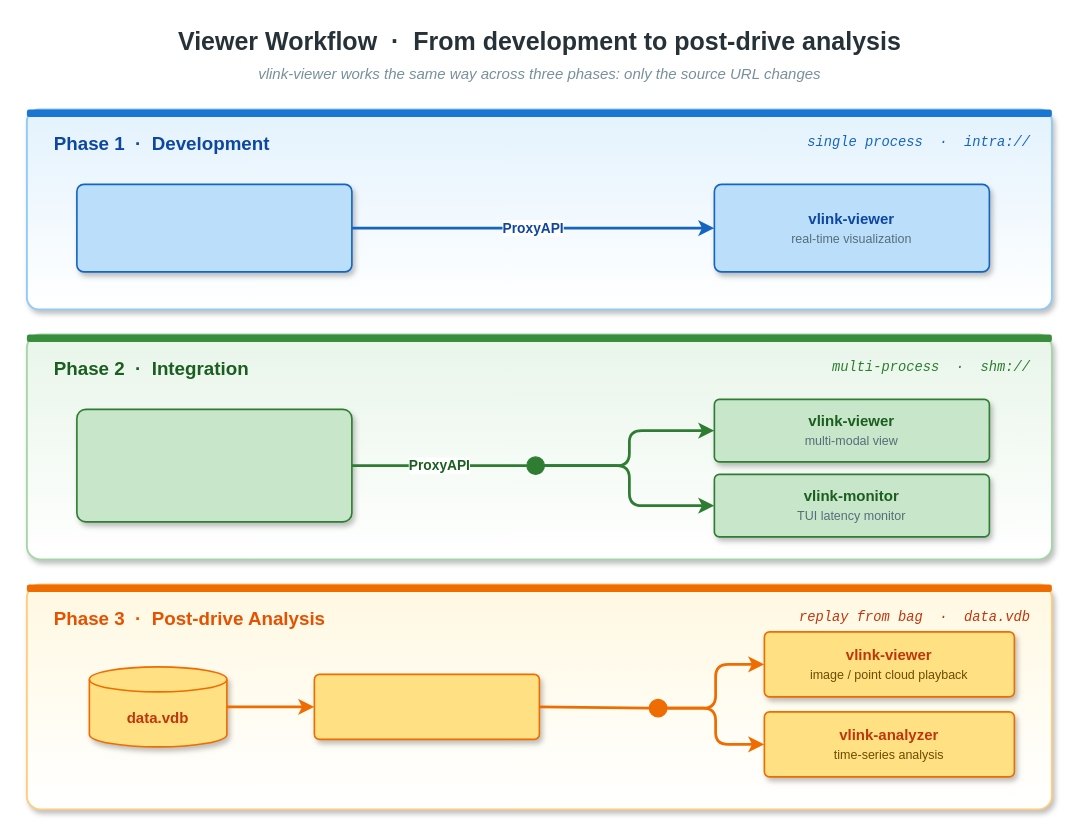
This 1083x840 diagram has some shape labels left out. The shapes that lost their labels are listed below. From the top down, each one's centre as x and y in pixels, then its label:
At point (215, 229): "Application Process intra://".
At point (215, 467): "Multiple Processes shm://".
At point (427, 708): "vlink-player timeline control".
